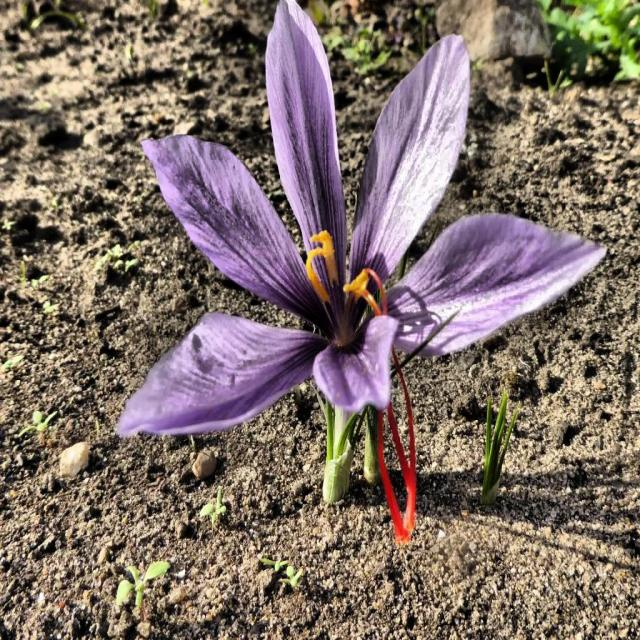Flower: (105, 0, 613, 557)
stigma: (366, 406, 412, 548), (394, 356, 433, 504)
